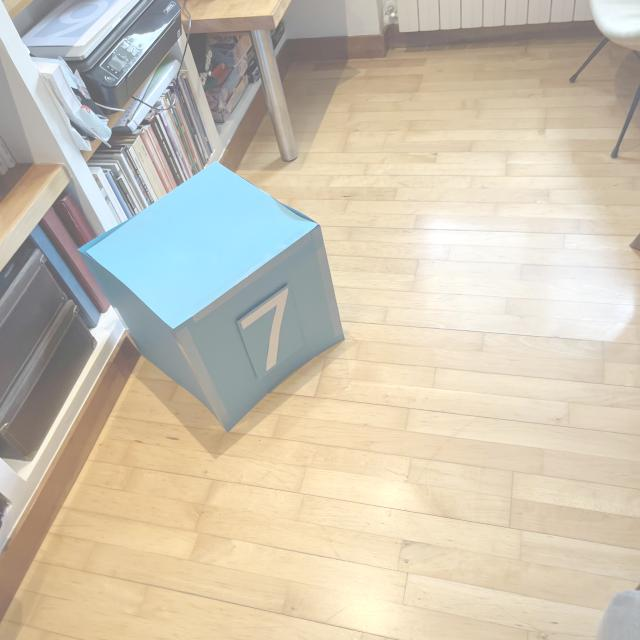box: (76, 158, 349, 434)
